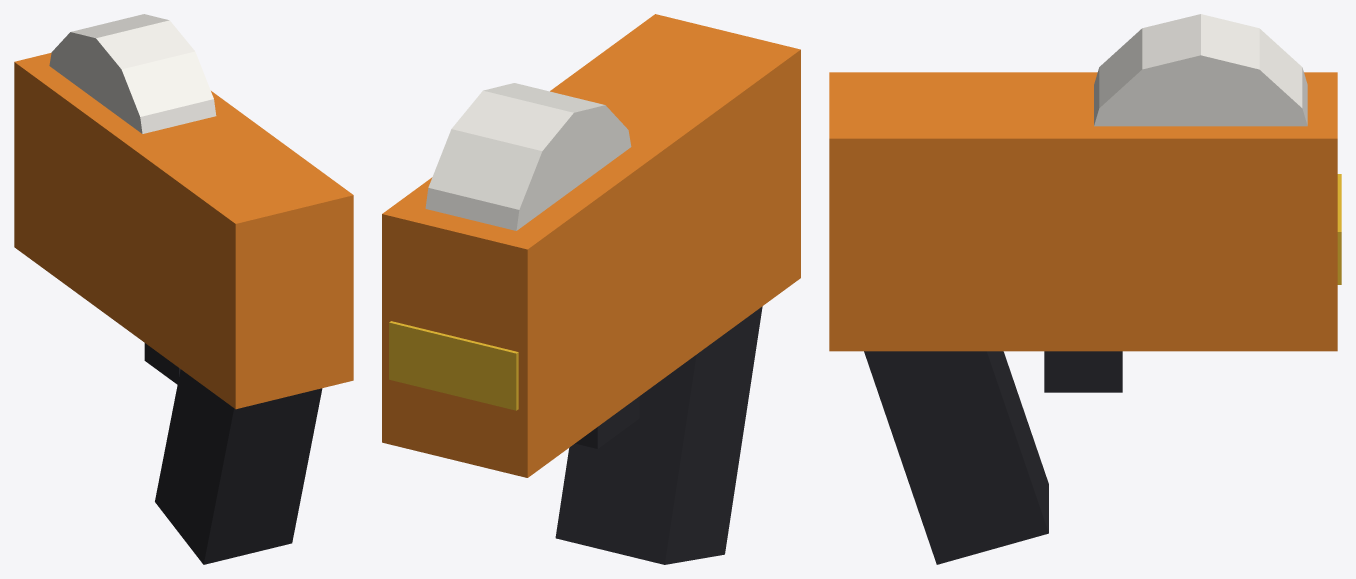
Rendered from super_price_gun.glb.
The picture shows the model from 3 angles, left to right: view 1: azimuth 30°, elevation 25°; view 2: azimuth 150°, elevation 25°; view 3: azimuth 270°, elevation 25°; orthographic projection. The views are drawn at different scales.
Parts seen in each view (by area): view 1: body_gun_orange, body_gun_dark, roll_gun_roll; view 2: body_gun_orange, body_gun_dark, roll_gun_roll, label_gun_label; view 3: body_gun_orange, body_gun_dark, roll_gun_roll.
Boxes of the visible parts, x1,y1,x2,y2 form: body_gun_orange: (14,52,353,409); body_gun_dark: (144,343,322,564); roll_gun_roll: (49,14,216,133); body_gun_orange: (382,14,800,477); body_gun_dark: (555,306,762,564); roll_gun_roll: (425,83,631,230); label_gun_label: (389,321,518,410); body_gun_orange: (829,72,1337,351); body_gun_dark: (864,351,1122,564); roll_gun_roll: (1094,14,1307,126).
Size of the model in its own units: 0.08 by 0.2853 by 0.262.
